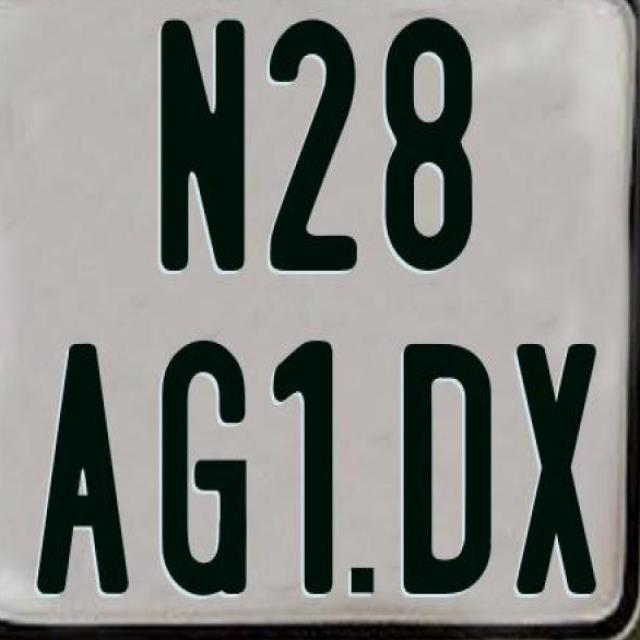license-plate: (6, 12, 640, 608)
